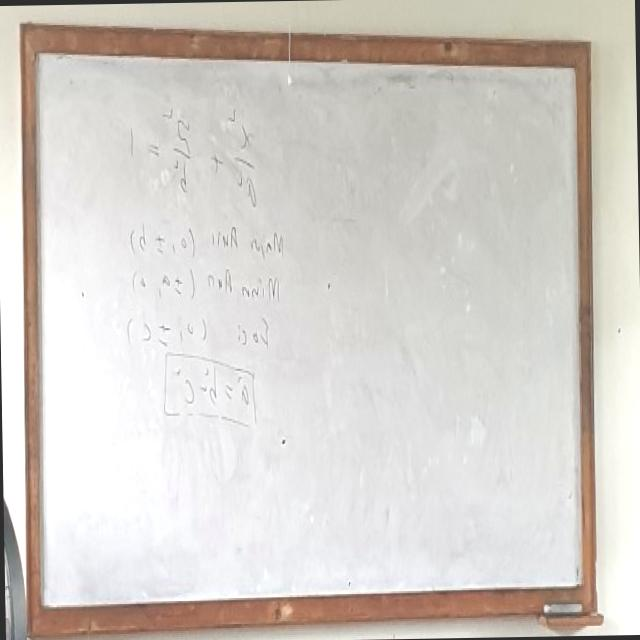White-board: (22, 35, 586, 626)
